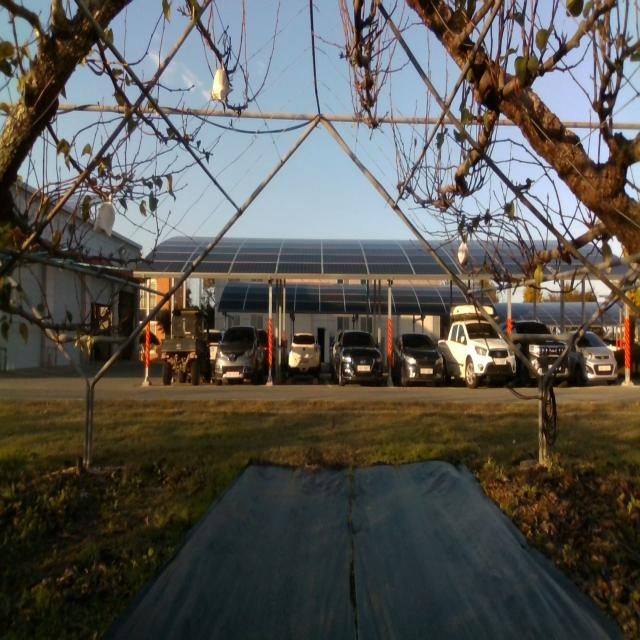pearbags: (94, 202, 115, 238), (212, 69, 228, 100), (458, 242, 468, 266)
